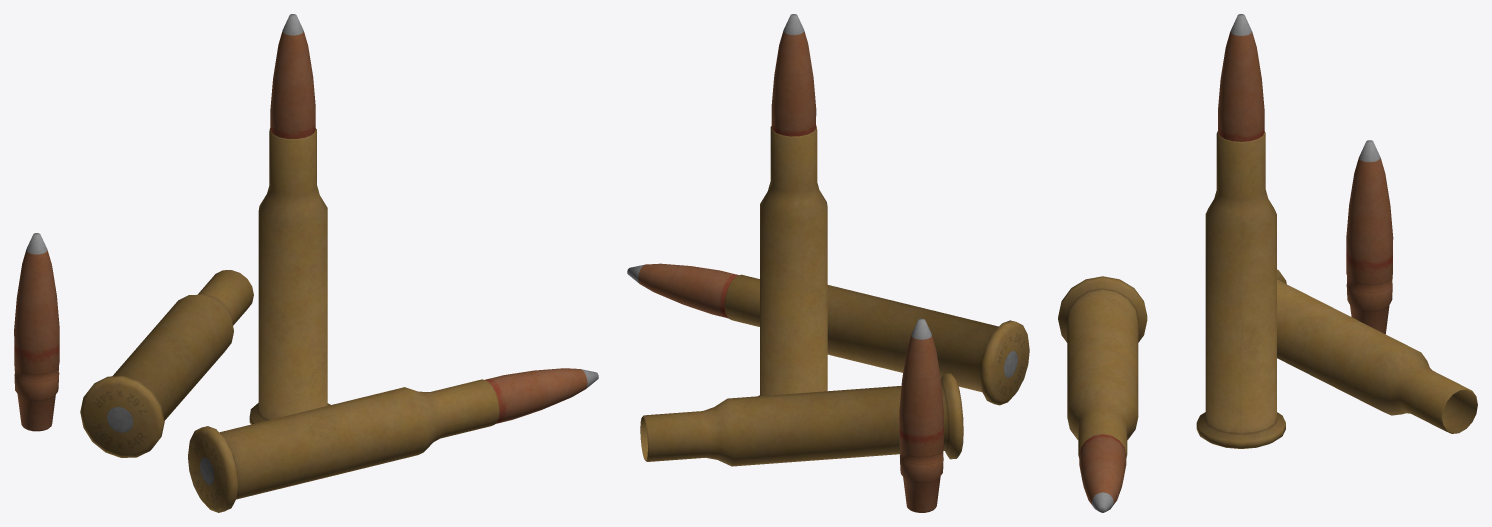
Rendered from ammo_7.62_x_54mmr.glb.
3 renders of one model, left to right at view 1: azimuth 30°, elevation 25°; view 2: azimuth 150°, elevation 25°; view 3: azimuth 270°, elevation 25°, orthographic. The views are drawn at different scales.
Visible parts, largest first — view 1: Cartridge_05_low, Cartridge_05_low.002, Cartridge_05_low.001, Projectile_05_low.001, Projectile_05_low.002, Projectile_05_low; view 2: Cartridge_05_low.001, Cartridge_05_low.002, Cartridge_05_low, Projectile_05_low.001, Projectile_05_low.002, Projectile_05_low; view 3: Cartridge_05_low.002, Cartridge_05_low.001, Cartridge_05_low, Projectile_05_low.001, Projectile_05_low.002, Projectile_05_low.
Boxes of the visible parts, x1,y1,x2,y2 form: Cartridge_05_low: (188,379,499,512); Cartridge_05_low.002: (249,128,330,424); Cartridge_05_low.001: (80,270,253,457); Projectile_05_low.001: (14,233,59,431); Projectile_05_low.002: (270,14,315,138); Projectile_05_low: (485,368,598,423); Cartridge_05_low.001: (640,373,963,466); Cartridge_05_low.002: (758,125,827,396); Cartridge_05_low: (724,274,1029,405); Projectile_05_low.001: (899,318,943,512); Projectile_05_low.002: (771,14,816,136); Projectile_05_low: (627,263,738,318); Cartridge_05_low.002: (1196,131,1285,448); Cartridge_05_low.001: (1277,269,1477,433); Cartridge_05_low: (1058,276,1147,458); Projectile_05_low.001: (1346,140,1393,334); Projectile_05_low.002: (1218,14,1264,141); Projectile_05_low: (1079,434,1126,512).
Size of the model in its own units: 1186 by 1034 by 939.
1 material, 1 textured.
